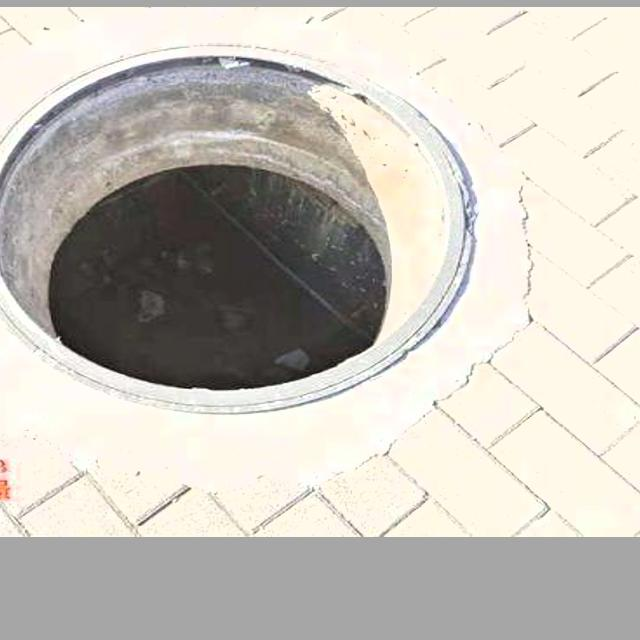lose: (0, 19, 516, 457)
